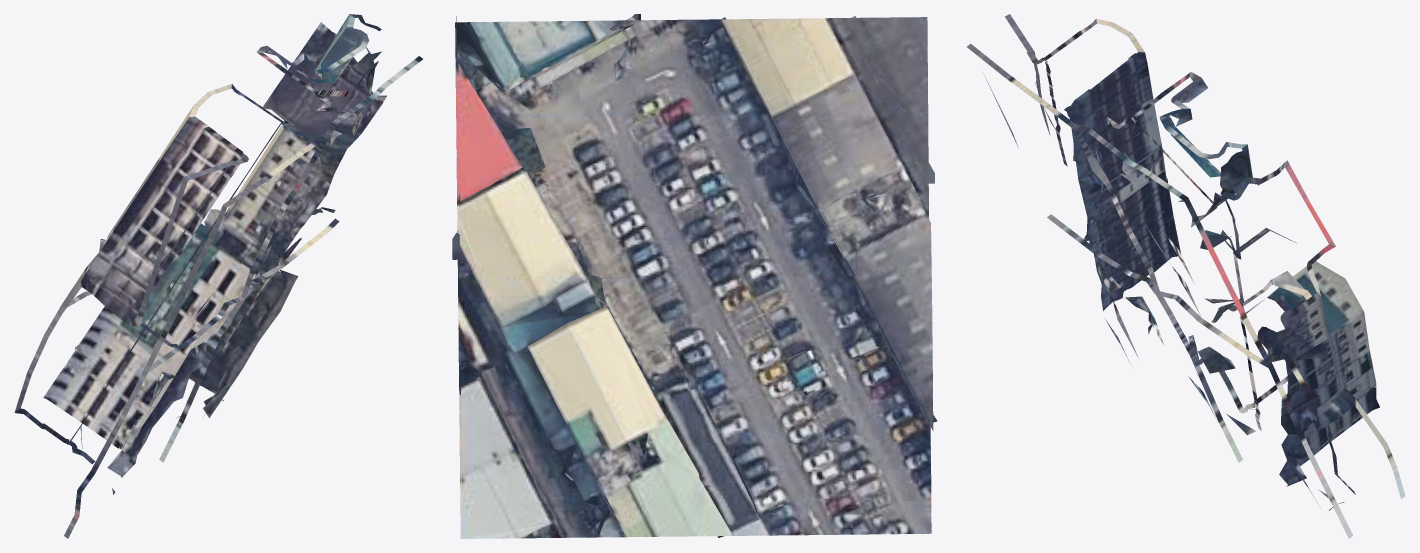
The picture shows the model from 3 angles, left to right: view 1: azimuth 30°, elevation 25°; view 2: azimuth 150°, elevation 25°; view 3: azimuth 270°, elevation 25°; orthographic projection. The views are drawn at different scales.
Bounding box in the file's own units: 81.08 × 77.61 × 72.24.
Materials: 2 (2 with a texture image).
